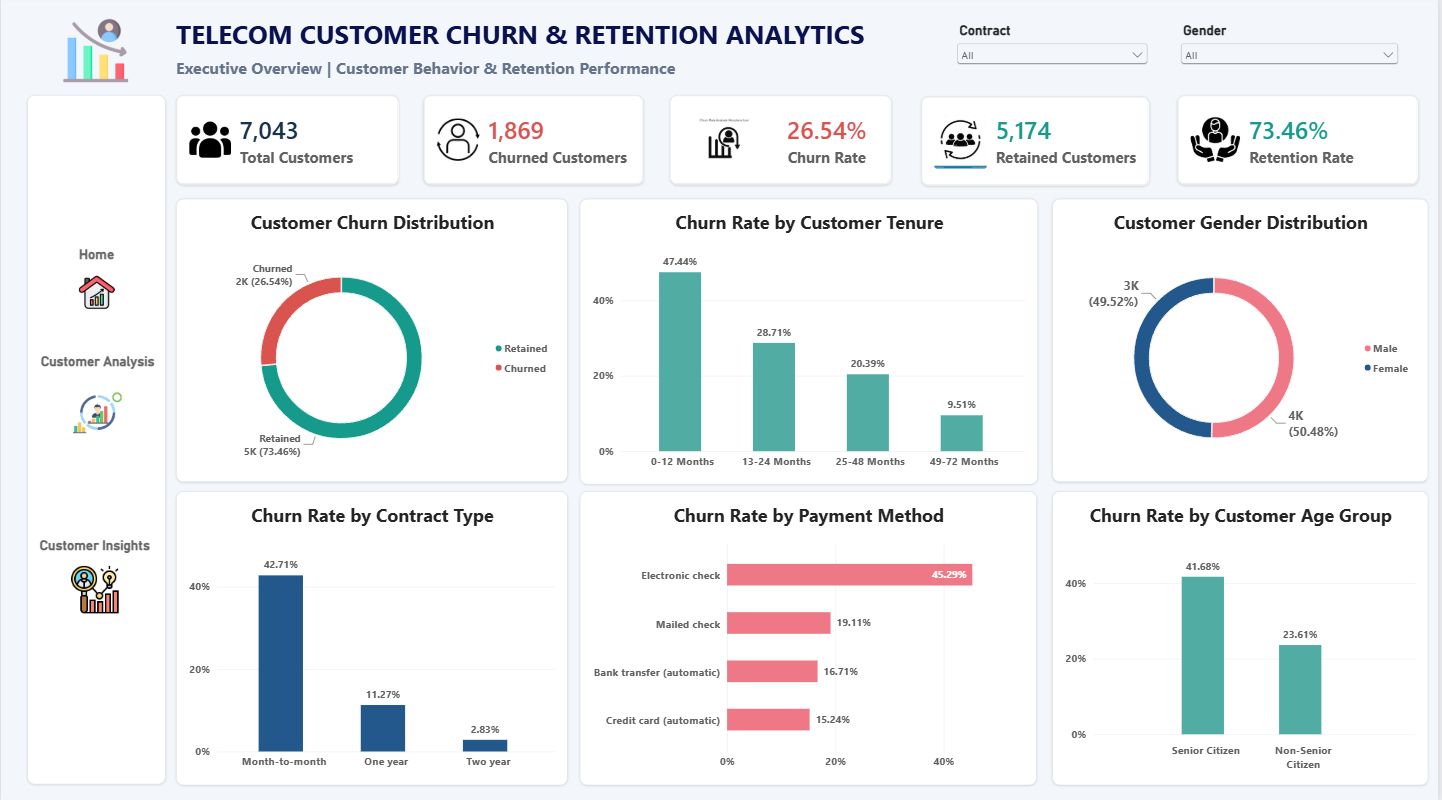

What the dashboard file says about the page in this screenshot:
{"tool":"powerbi","page":{"name":"Executive Overview","canvas":[1920,1080],"ordinal":1},"visuals":[{"type":"textbox","box":[34.9,134.3,184.9,920.9],"z":0},{"type":"textbox","title":"TELECOM CUSTOMER CHURN & RETENTION ANALYTICS","box":[234,28,928,92],"z":1000},{"type":"cardVisual","fields":{"Data":["Telco-Customer-Churn_Raw.Total Customers Display"]},"box":[233.7,134.3,298.3,120.3],"z":2000},{"type":"cardVisual","fields":{"Data":["Telco-Customer-Churn_Raw.Churned Customers Display"]},"box":[565.1,134.3,294.8,120.3],"z":3000},{"type":"cardVisual","fields":{"Data":["Telco-Customer-Churn_Raw.Churn Rate"]},"box":[893,134.3,296.5,120.3],"z":4000},{"type":"cardVisual","fields":{"Data":["Telco-Customer-Churn_Raw.Retention Rate"]},"box":[1571.5,134.3,322.7,120.3],"z":5000},{"type":"donutChart","title":"Customer Churn Distribution","fields":{"Category":["Telco-Customer-Churn_Raw.Churn Status"],"Y":["Telco-Customer-Churn_Raw.Total Customers"]},"box":[233.7,272.1,523.3,378.5],"z":6000},{"type":"clusteredColumnChart","title":"Churn Rate by Contract Type","fields":{"Category":["Telco-Customer-Churn_Raw.Contract"],"Y":["Telco-Customer-Churn_Raw.Churn Rate by Segment"]},"box":[233.7,662.8,523.3,392.4],"z":7000},{"type":"clusteredColumnChart","title":"Churn Rate by Customer Tenure","fields":{"Category":["Telco-Customer-Churn_Raw.Tenure Group"],"Y":["Telco-Customer-Churn_Raw.Churn Rate by Segment"]},"box":[772.7,272.1,612.2,382],"z":8000},{"type":"clusteredBarChart","title":"Churn Rate by Payment Method","fields":{"Category":["Telco-Customer-Churn_Raw.PaymentMethod"],"Y":["Telco-Customer-Churn_Raw.Churn Rate by Segment"]},"box":[772.7,662.8,610.5,392.4],"z":9000},{"type":"clusteredColumnChart","title":"Churn Rate by Customer Age Group","fields":{"Category":["Telco-Customer-Churn_Raw.Customer Age Group"],"Y":["Telco-Customer-Churn_Raw.Churn Rate by Segment"]},"box":[1404.1,662.8,502.3,392.4],"z":10000},{"type":"cardVisual","fields":{"Data":["Telco-Customer-Churn_Raw.Retained Customers Display"]},"box":[1229.7,136,305.2,120.3],"z":11000},{"type":"donutChart","title":"Customer Gender Distribution","fields":{"Category":["Telco-Customer-Churn_Raw.gender"],"Y":["Telco-Customer-Churn_Raw.Total Customers"]},"box":[1404.1,272.1,502.3,378.5],"z":12000},{"type":"image","title":"Customer Analysis","box":[36,480,184.9,120.3],"z":13000},{"type":"image","title":"Customer Insights","box":[34,724,184,102],"z":14000},{"type":"image","box":[34,28,186,92],"z":15000},{"type":"slicer","fields":{"Values":["Telco-Customer-Churn_Raw.Contract"]},"box":[1272,36,264,74],"z":16000},{"type":"slicer","fields":{"Values":["Telco-Customer-Churn_Raw.gender"]},"box":[1572,36,300,74],"z":17000},{"type":"image","title":"Home","box":[36,336,182,86],"z":18000}]}

Visuals, with their boxes in screenshot pixels (x1, y1, x2, y2), scaled from the page's 1920x1080 canvas onto the 1442x800 screenshot:
textbox: <bbox>26, 99, 165, 782</bbox>
"TELECOM CUSTOMER CHURN & RETENTION ANALYTICS" textbox: <bbox>176, 21, 873, 89</bbox>
cardVisual - Telco-Customer-Churn_Raw.Total Customers Display: <bbox>176, 99, 400, 189</bbox>
cardVisual - Telco-Customer-Churn_Raw.Churned Customers Display: <bbox>424, 99, 646, 189</bbox>
cardVisual - Telco-Customer-Churn_Raw.Churn Rate: <bbox>671, 99, 893, 189</bbox>
cardVisual - Telco-Customer-Churn_Raw.Retention Rate: <bbox>1180, 99, 1423, 189</bbox>
"Customer Churn Distribution" donutChart: <bbox>176, 202, 569, 482</bbox>
"Churn Rate by Contract Type" clusteredColumnChart: <bbox>176, 491, 569, 782</bbox>
"Churn Rate by Customer Tenure" clusteredColumnChart: <bbox>580, 202, 1040, 485</bbox>
"Churn Rate by Payment Method" clusteredBarChart: <bbox>580, 491, 1039, 782</bbox>
"Churn Rate by Customer Age Group" clusteredColumnChart: <bbox>1055, 491, 1432, 782</bbox>
cardVisual - Telco-Customer-Churn_Raw.Retained Customers Display: <bbox>924, 101, 1153, 190</bbox>
"Customer Gender Distribution" donutChart: <bbox>1055, 202, 1432, 482</bbox>
"Customer Analysis" image: <bbox>27, 356, 166, 445</bbox>
"Customer Insights" image: <bbox>26, 536, 164, 612</bbox>
image: <bbox>26, 21, 165, 89</bbox>
slicer - Telco-Customer-Churn_Raw.Contract: <bbox>955, 27, 1154, 81</bbox>
slicer - Telco-Customer-Churn_Raw.gender: <bbox>1181, 27, 1406, 81</bbox>
"Home" image: <bbox>27, 249, 164, 313</bbox>
